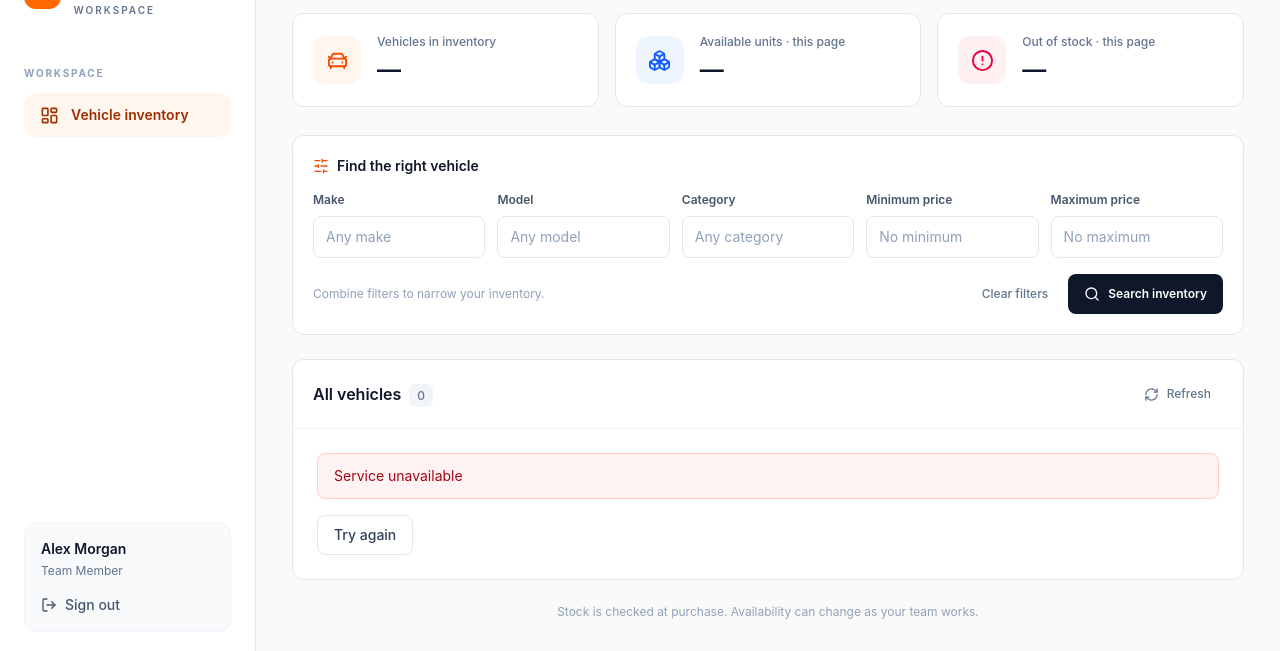
Test: shows API errors and retries inventory loading
(page scrolled)
Expected: the message reads "Service unavailable", [334, 467, 463, 484]
Click the button "Try again" at [365, 535], box [317, 515, 413, 555]
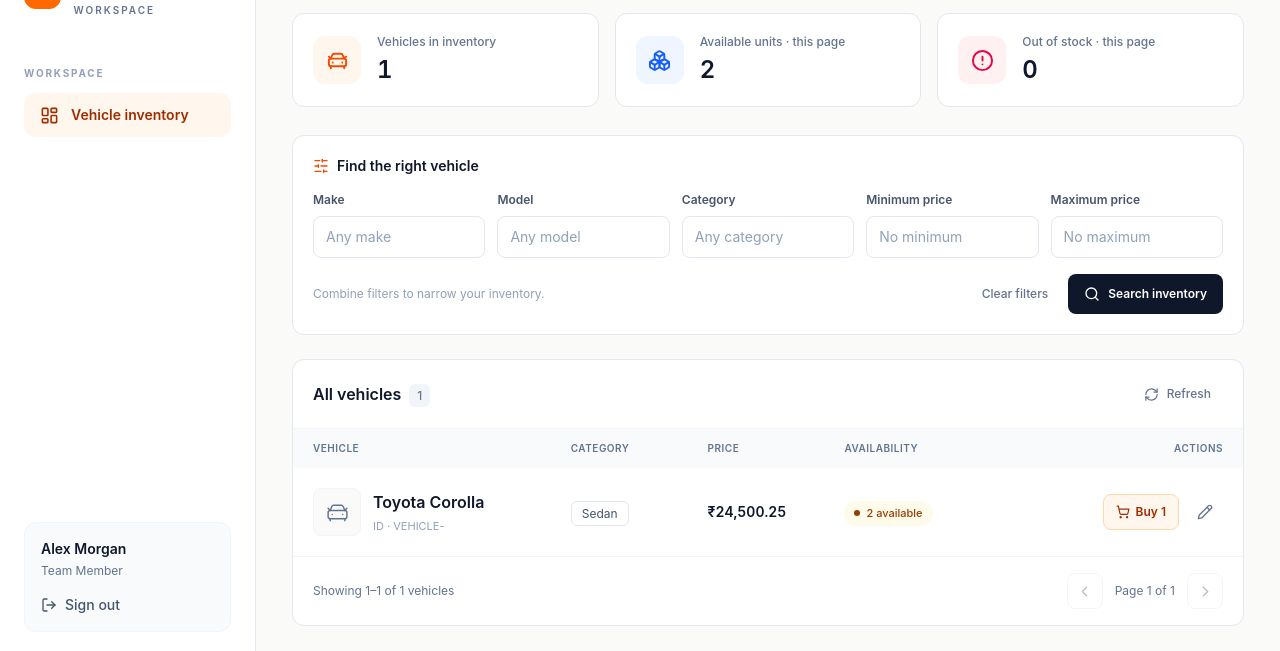
Result: the heading "Toyota Corolla" is shown at [373, 490, 484, 514]
